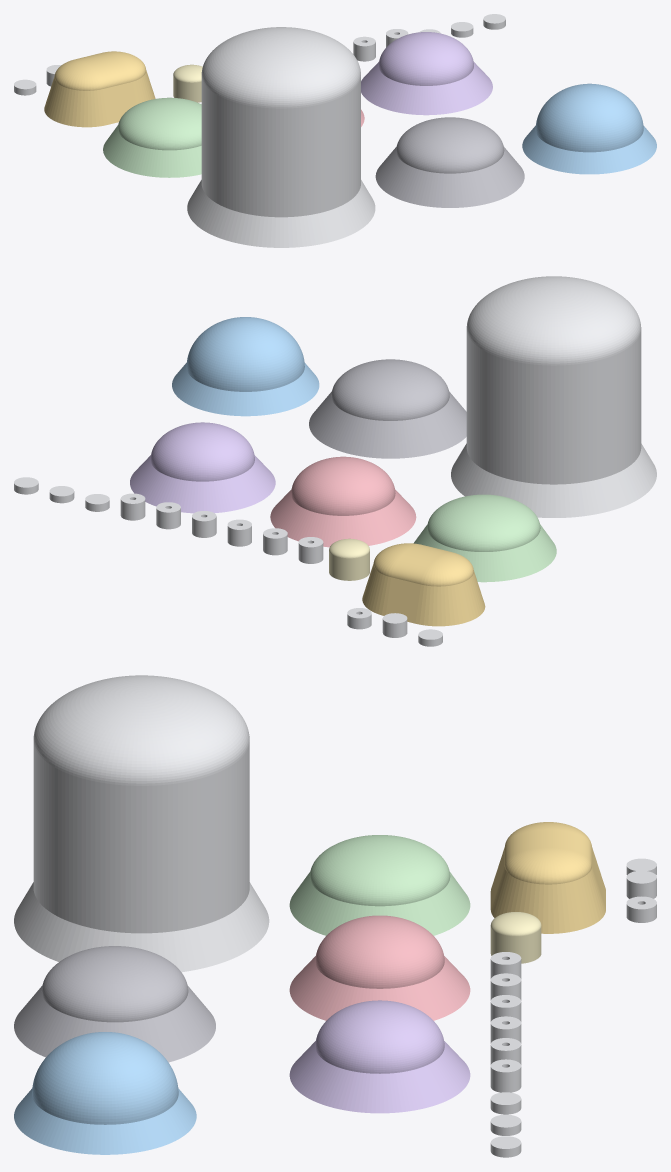
Rendered from project1_base_kit.glb.
3 renders of one model, top to bottom at view 1: azimuth 30°, elevation 25°; view 2: azimuth 150°, elevation 25°; view 3: azimuth 270°, elevation 25°, orthographic. The views are drawn at different scales.
Parts seen in each view (by area): view 1: 01_Hub_Tower, 07_Logistics_Dome, 03_Agriculture_Dome, 06_Science_Dome, 04_Utility_Dome, 02_Crew_Core, 08_Junction_Node_print_x6, 13_Tunnel_Hub_to_N5; view 2: 01_Hub_Tower, 07_Logistics_Dome, 03_Agriculture_Dome, 06_Science_Dome, 05_Medical_Dome, 04_Utility_Dome, 02_Crew_Core, 08_Junction_Node_print_x6, 14_Tunnel_Hub_to_N6, 09_Tunnel_Hub_to_N1, 10_Tunnel_Hub_to_N2, 11_Tunnel_Hub_to_N3 (+3 smaller); view 3: 01_Hub_Tower, 03_Agriculture_Dome, 07_Logistics_Dome, 06_Science_Dome, 05_Medical_Dome, 04_Utility_Dome, 02_Crew_Core, 08_Junction_Node_print_x6, 14_Tunnel_Hub_to_N6, 19_Tunnel_N1_to_Logistics, 20_Tunnel_N4_to_CrewCore, 09_Tunnel_Hub_to_N1 (+4 smaller).
Part boxes in pixels (x1=…): 01_Hub_Tower: x1=187, y1=27, x2=375, y2=247; 07_Logistics_Dome: x1=375, y1=117, x2=524, y2=207; 03_Agriculture_Dome: x1=522, y1=83, x2=656, y2=174; 06_Science_Dome: x1=361, y1=32, x2=492, y2=115; 04_Utility_Dome: x1=103, y1=97, x2=201, y2=177; 02_Crew_Core: x1=44, y1=51, x2=155, y2=127; 08_Junction_Node_print_x6: x1=173, y1=64, x2=202, y2=102; 13_Tunnel_Hub_to_N5: x1=353, y1=36, x2=375, y2=61; 01_Hub_Tower: x1=451, y1=276, x2=656, y2=517; 07_Logistics_Dome: x1=309, y1=359, x2=466, y2=458; 03_Agriculture_Dome: x1=172, y1=317, x2=319, y2=416; 06_Science_Dome: x1=130, y1=422, x2=275, y2=513; 05_Medical_Dome: x1=270, y1=456, x2=416, y2=547; 04_Utility_Dome: x1=413, y1=494, x2=556, y2=582; 02_Crew_Core: x1=362, y1=543, x2=485, y2=626; 08_Junction_Node_print_x6: x1=329, y1=538, x2=369, y2=580; 14_Tunnel_Hub_to_N6: x1=120, y1=493, x2=145, y2=520; 09_Tunnel_Hub_to_N1: x1=298, y1=537, x2=323, y2=563; 10_Tunnel_Hub_to_N2: x1=263, y1=528, x2=287, y2=555; 11_Tunnel_Hub_to_N3: x1=227, y1=519, x2=251, y2=546; 01_Hub_Tower: x1=14, y1=675, x2=269, y2=972; 03_Agriculture_Dome: x1=14, y1=1032, x2=196, y2=1154; 07_Logistics_Dome: x1=14, y1=946, x2=215, y2=1062; 06_Science_Dome: x1=289, y1=1000, x2=470, y2=1113; 05_Medical_Dome: x1=289, y1=915, x2=470, y2=1020; 04_Utility_Dome: x1=289, y1=835, x2=470, y2=935; 02_Crew_Core: x1=490, y1=822, x2=605, y2=933; 08_Junction_Node_print_x6: x1=490, y1=912, x2=541, y2=963; 14_Tunnel_Hub_to_N6: x1=490, y1=1059, x2=521, y2=1092; 19_Tunnel_N1_to_Logistics: x1=626, y1=870, x2=656, y2=898; 20_Tunnel_N4_to_CrewCore: x1=626, y1=896, x2=656, y2=922; 09_Tunnel_Hub_to_N1: x1=490, y1=952, x2=521, y2=978.
Bounding box in the file's own units: 535 × 195 × 501.
